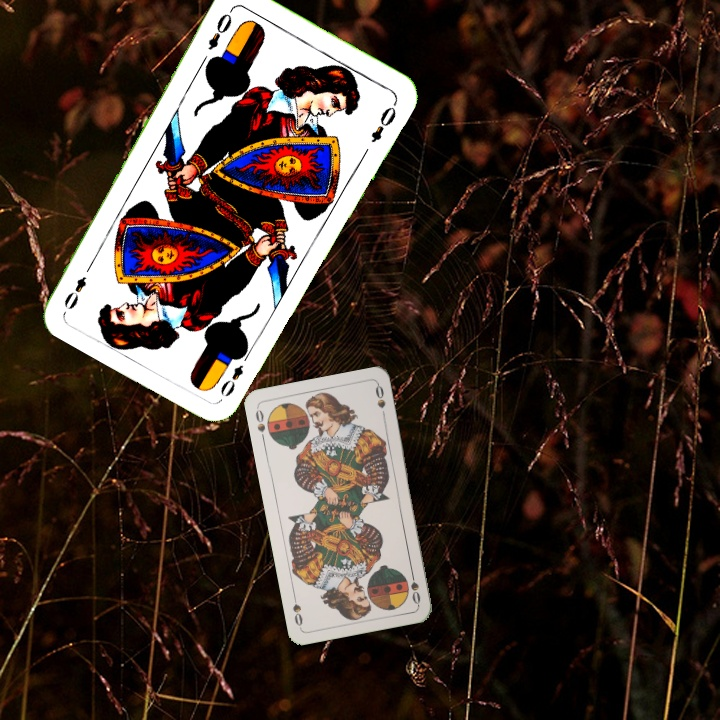EO: (216, 347, 253, 400), (203, 5, 236, 53)
SO: (251, 404, 268, 444), (407, 566, 423, 607)
